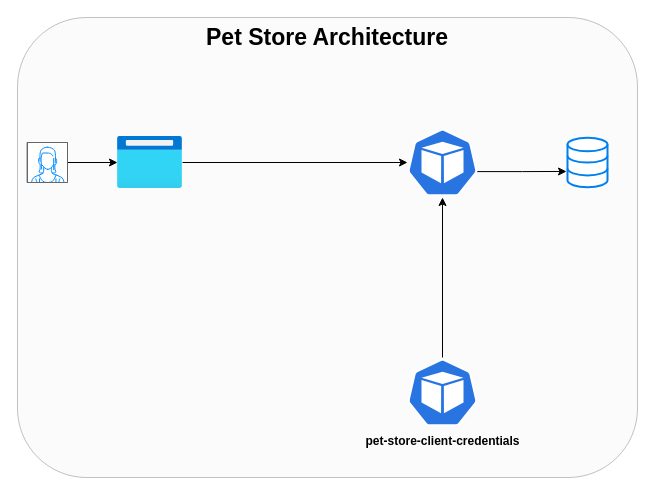
The diagram is 655 pixels wide and 495 high, and some of its shapes have lost their labels. The shapes that lost their labels are listed below. From the top down, each one's centre as x and y in pixels, then its label:
the point at 149,162: SPA
the point at 442,162: pet-store-resource-server
